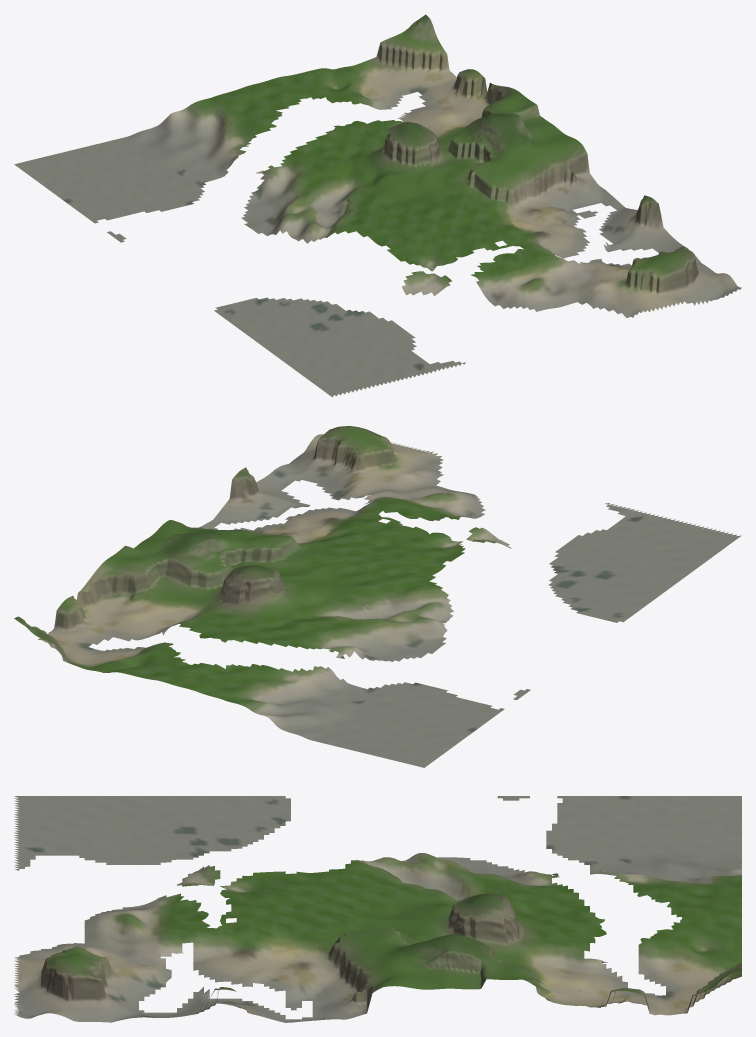
File: coast_tile_x0z1.glb
3 renders of one model, top to bottom at view 1: azimuth 30°, elevation 25°; view 2: azimuth 150°, elevation 25°; view 3: azimuth 270°, elevation 25°, orthographic. The views are drawn at different scales.
Parts seen in each view (by area): view 1: coast_tile_x0z1; view 2: coast_tile_x0z1; view 3: coast_tile_x0z1.
Part boxes in pixels (box(x1,y1,x2,y2)): coast_tile_x0z1: box(14, 14, 741, 397); coast_tile_x0z1: box(14, 426, 741, 767); coast_tile_x0z1: box(14, 796, 741, 1022).
Size of the model in its own units: 600 by 71.53 by 804.
